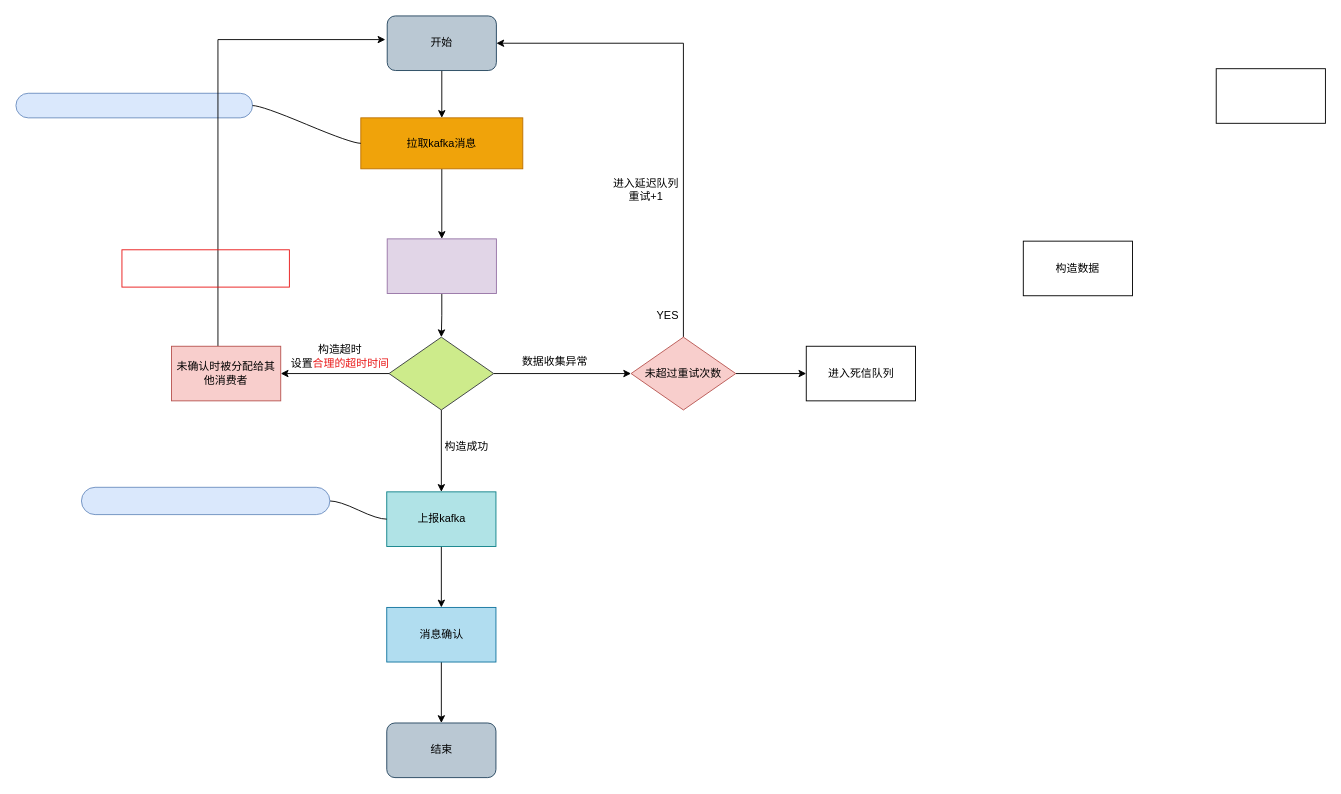
Some shapes in this 1341 by 794 pixel diagram are drawn without their labels. Each missing label, with the centre of its shape:
topic： topic_fan_energy_data_report_nbi: (x=205, y=500)
topic：topic_fan_energy_data_report: (x=134, y=105)
可能导致reblance后的重复消费 是否落表加入重复判断？: (x=205, y=268)
构造结果: (x=441, y=373)
构造能耗数据: (x=441, y=265)
